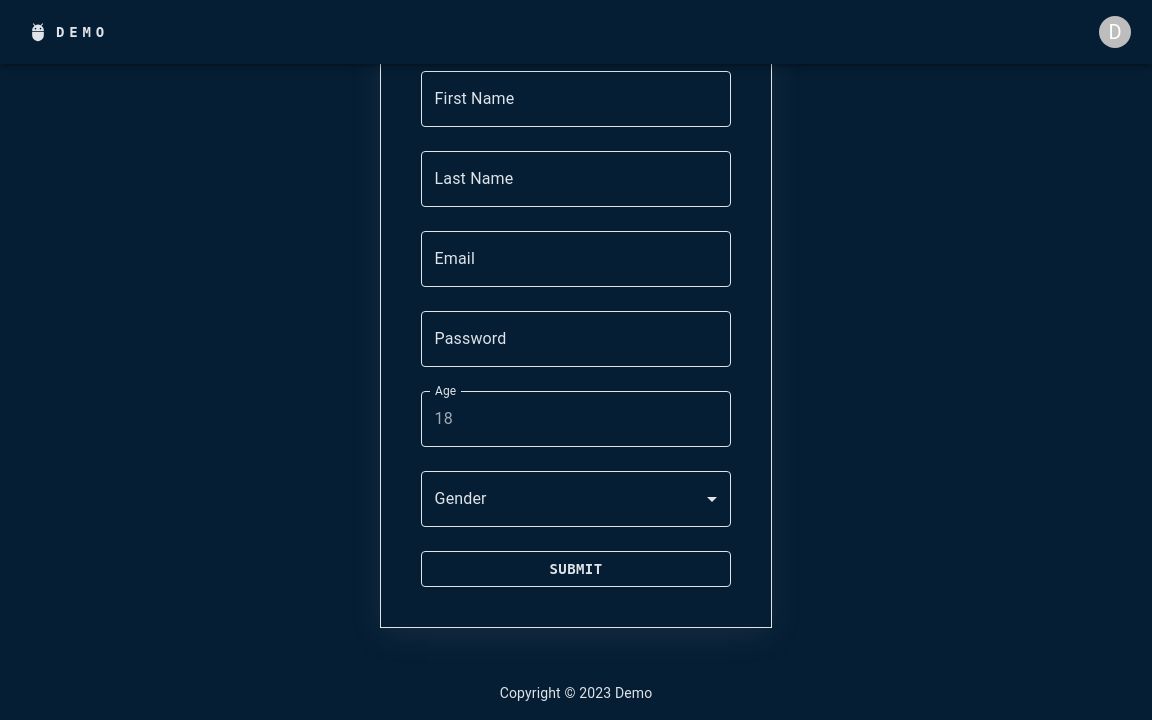
Test: User loads the CustomerFormPage from the /customer-form-route › it should show the form validations errors when user submits an empty form
(page scrolled)
Expected: the button named "account settings" is shown, x1=1094 y1=11 x2=1136 y2=53
Click the button "Submit".
click(576, 569)  # box x1=421 y1=551 x2=731 y2=588
(page scrolled)
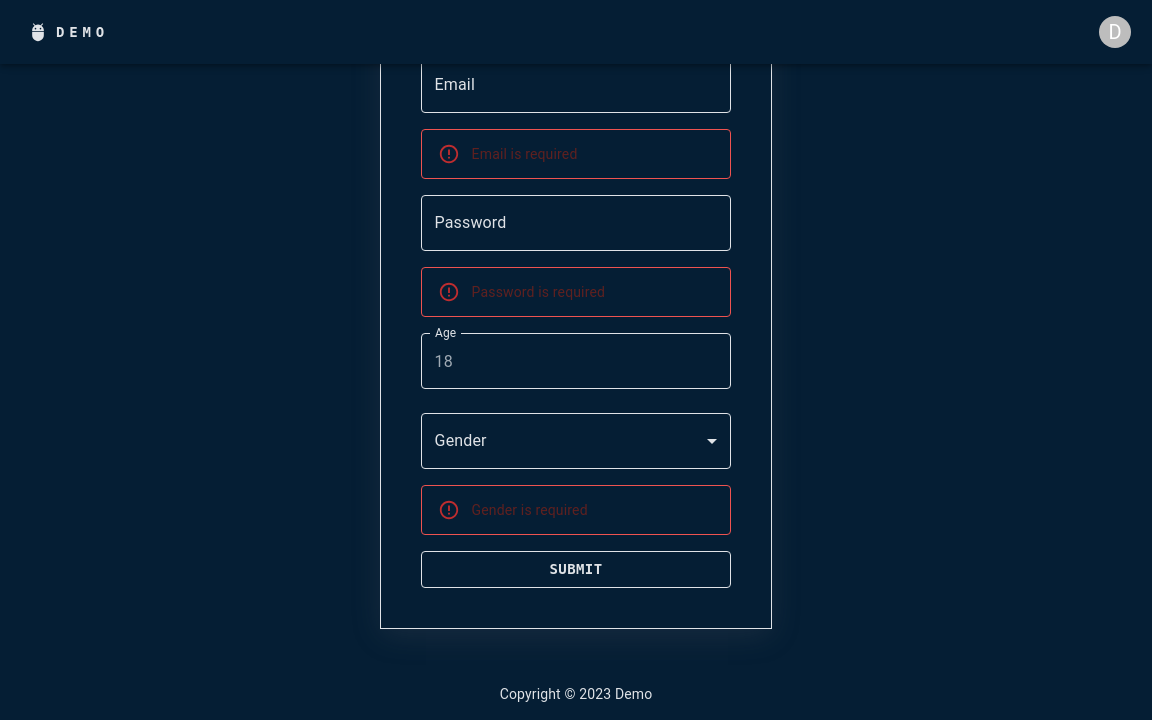
Expected: the text "Email is required" is shown, x1=472 y1=146 x2=577 y2=162
Expected: the text "Password is required" is shown, x1=472 y1=284 x2=605 y2=300
Expected: the text "Gender is required" is shown, x1=472 y1=502 x2=588 y2=518
